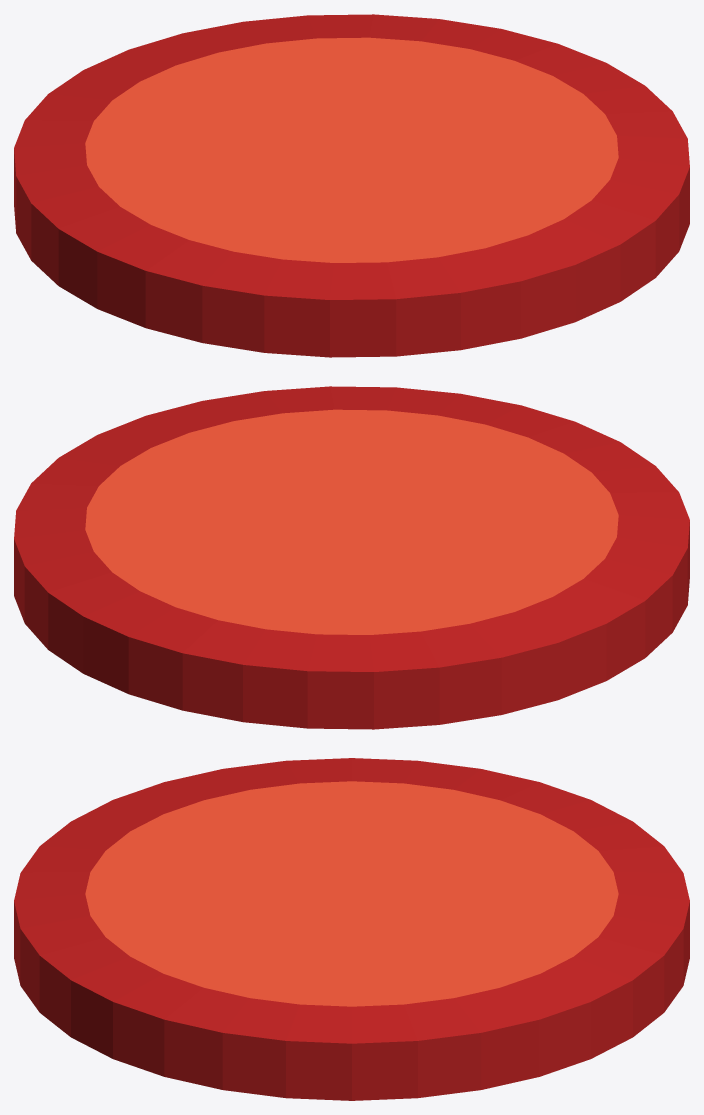
File: FBX_Tomato.fbx
3 renders of one model, top to bottom at view 1: azimuth 30°, elevation 25°; view 2: azimuth 150°, elevation 25°; view 3: azimuth 270°, elevation 25°, orthographic.
Parts seen in each view (by area): view 1: tomato; view 2: tomato; view 3: tomato.
Part boxes in pixels (x1=…): tomato: x1=14, y1=14, x2=689, y2=357; tomato: x1=14, y1=386, x2=689, y2=729; tomato: x1=14, y1=758, x2=689, y2=1100.
Size of the model in its own units: 200 by 21.69 by 200.
